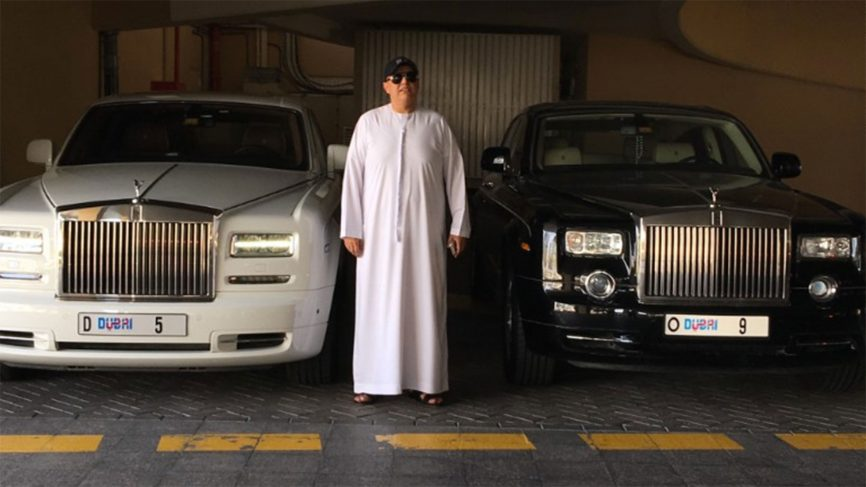number_plate: (74, 306, 192, 342), (662, 309, 771, 342)
